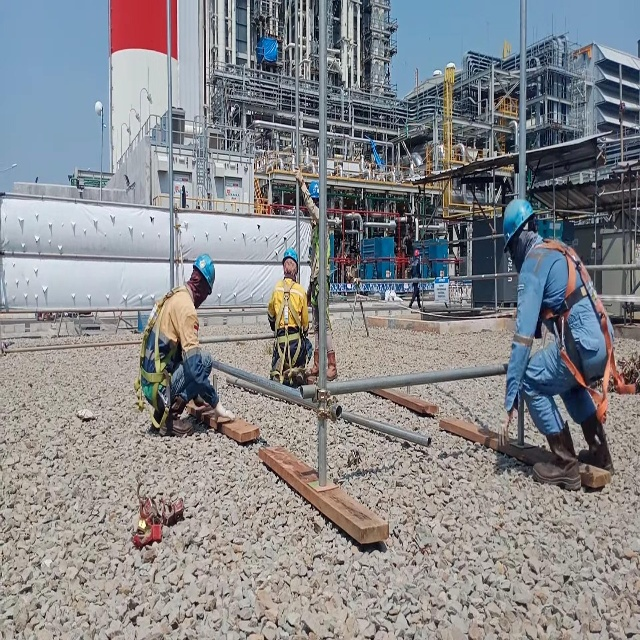Arnes_seguridad: (531, 230, 640, 424), (132, 284, 184, 435), (270, 273, 307, 388)
